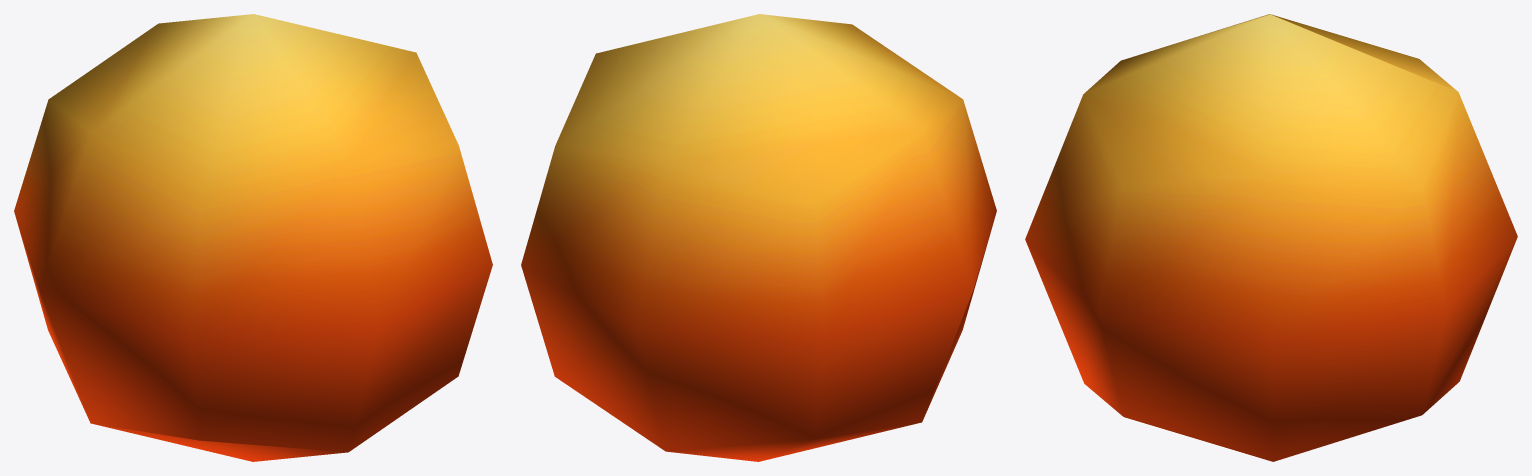
File: m_LavaBubble02.fbx
3 views of the same model, side by side, from view 1: azimuth 30°, elevation 25°; view 2: azimuth 150°, elevation 25°; view 3: azimuth 270°, elevation 25° (orthographic).
Parts seen in each view (by area): view 1: m_LavaBubble02; view 2: m_LavaBubble02; view 3: m_LavaBubble02.
Boxes of the visible parts, box(x1,y1,x2,y2) form: m_LavaBubble02: box(14, 14, 492, 461); m_LavaBubble02: box(521, 14, 996, 461); m_LavaBubble02: box(1025, 14, 1517, 461).
Size of the model in its own units: 38.5 by 38.5 by 38.5.
